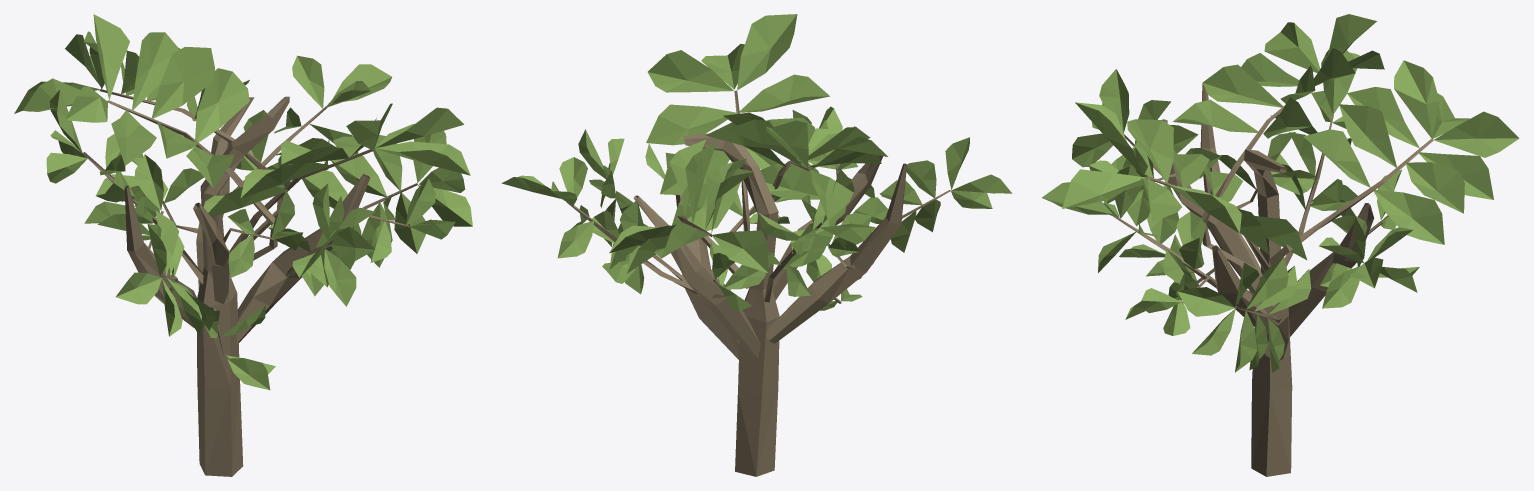
File: Peach_5_4.fbx
3 renders of one model, left to right at view 1: azimuth 30°, elevation 25°; view 2: azimuth 150°, elevation 25°; view 3: azimuth 270°, elevation 25°, orthographic. The views are drawn at different scales.
Parts seen in each view (by area): view 1: Peach_5_4; view 2: Peach_5_4; view 3: Peach_5_4.
Part boxes in pixels (bbox=[...]): Peach_5_4: bbox=[14, 14, 472, 476]; Peach_5_4: bbox=[501, 14, 1012, 476]; Peach_5_4: bbox=[1041, 14, 1519, 476].
Size of the model in its own units: 419 by 414 by 433.
